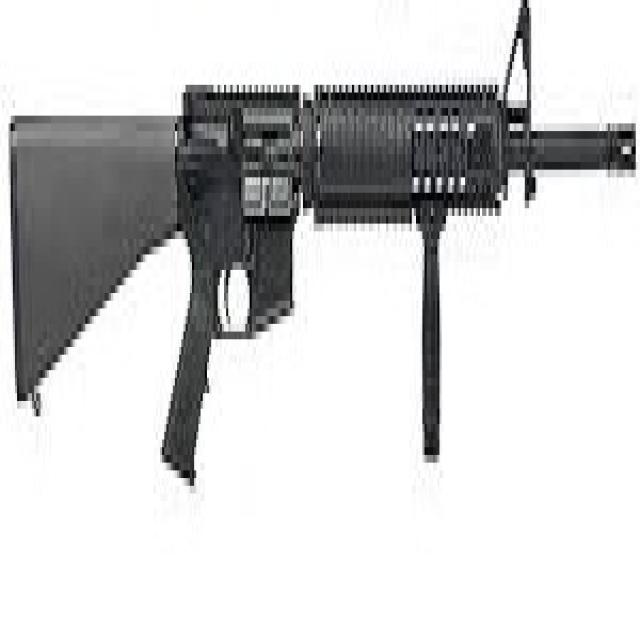rifle: (5, 1, 640, 541)
